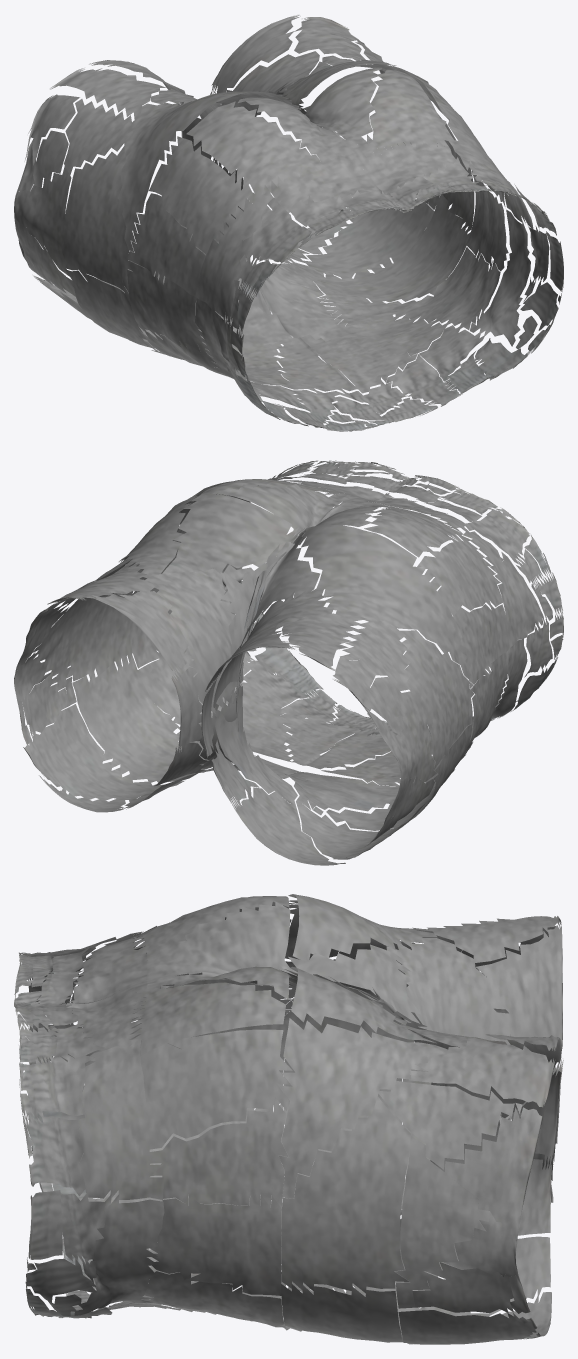
The model's file is adult-base-01.glb.
3 views of the same model, one above another, from view 1: azimuth 30°, elevation 25°; view 2: azimuth 150°, elevation 25°; view 3: azimuth 270°, elevation 25° (orthographic). The views are drawn at different scales.
Parts seen in each view (by area): view 1: geometry_0; view 2: geometry_0; view 3: geometry_0.
Part boxes in pixels (box(x1,y1,x2,y2)): geometry_0: box(14, 15, 563, 431); geometry_0: box(14, 460, 563, 865); geometry_0: box(14, 894, 563, 1344).
Bounding box in the file's own units: 0.00402 × 0.00277 × 0.00392.
Materials: 1 (1 with a texture image).
